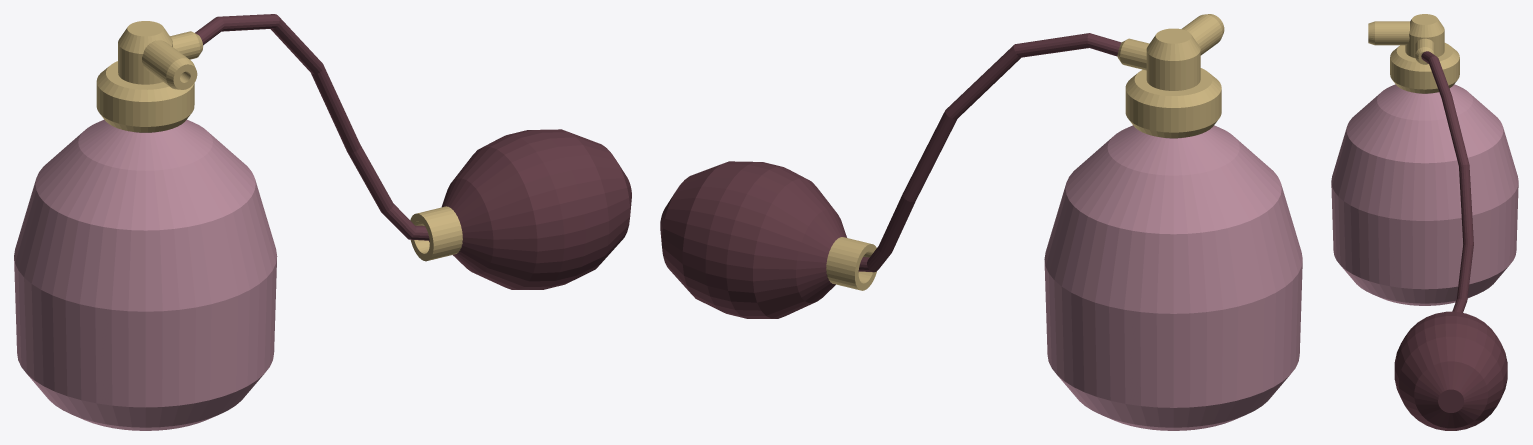
The picture shows the model from 3 angles, left to right: view 1: azimuth 30°, elevation 25°; view 2: azimuth 150°, elevation 25°; view 3: azimuth 270°, elevation 25°; orthographic projection. The views are drawn at different scales.
Parts seen in each view (by area): view 1: WholeRoundShoulderedFlatBottomBottleAndNeck, WholePearBulbWithFullNarrowNeck, WholeContinuousCurvedBulbLinkHose, WholeSeatedNeckCollar, WholeUprightNozzleHead, WholeBulbNeckFerrule, WholeShortForwardRecessedOutlet, WholeSideHoseOutlet; view 2: WholeRoundShoulderedFlatBottomBottleAndNeck, WholePearBulbWithFullNarrowNeck, WholeContinuousCurvedBulbLinkHose, WholeSeatedNeckCollar, WholeUprightNozzleHead, WholeBulbNeckFerrule, WholeShortForwardRecessedOutlet, WholeSideHoseOutlet; view 3: WholeRoundShoulderedFlatBottomBottleAndNeck, WholePearBulbWithFullNarrowNeck, WholeContinuousCurvedBulbLinkHose, WholeSeatedNeckCollar, WholeUprightNozzleHead, WholeShortForwardRecessedOutlet, WholeSideHoseOutlet.
Part boxes in pixels (box(x1,y1,x2,y2)): WholeRoundShoulderedFlatBottomBottleAndNeck: box(14, 119, 277, 430); WholePearBulbWithFullNarrowNeck: box(429, 129, 631, 289); WholeContinuousCurvedBulbLinkHose: box(195, 14, 429, 240); WholeSeatedNeckCollar: box(96, 61, 194, 132); WholeUprightNozzleHead: box(118, 21, 172, 84); WholeBulbNeckFerrule: box(410, 206, 462, 261); WholeShortForwardRecessedOutlet: box(142, 40, 197, 89); WholeSideHoseOutlet: box(170, 31, 203, 59); WholeRoundShoulderedFlatBottomBottleAndNeck: box(1044, 125, 1302, 430); WholePearBulbWithFullNarrowNeck: box(660, 161, 858, 318); WholeContinuousCurvedBulbLinkHose: box(858, 33, 1121, 272); WholeSeatedNeckCollar: box(1125, 68, 1221, 138); WholeUprightNozzleHead: box(1146, 28, 1200, 90); WholeBulbNeckFerrule: box(826, 237, 876, 290); WholeShortForwardRecessedOutlet: box(1181, 14, 1224, 55); WholeSideHoseOutlet: box(1117, 38, 1149, 70); WholeRoundShoulderedFlatBottomBottleAndNeck: box(1331, 84, 1518, 305); WholePearBulbWithFullNarrowNeck: box(1394, 311, 1507, 430); WholeContinuousCurvedBulbLinkHose: box(1421, 51, 1473, 312); WholeSeatedNeckCollar: box(1390, 43, 1459, 93); WholeUprightNozzleHead: box(1405, 14, 1444, 58); WholeShortForwardRecessedOutlet: box(1368, 21, 1409, 45); WholeSideHoseOutlet: box(1415, 38, 1434, 64).
Size of the model in its own units: 0.23 by 0.132 by 0.086.
